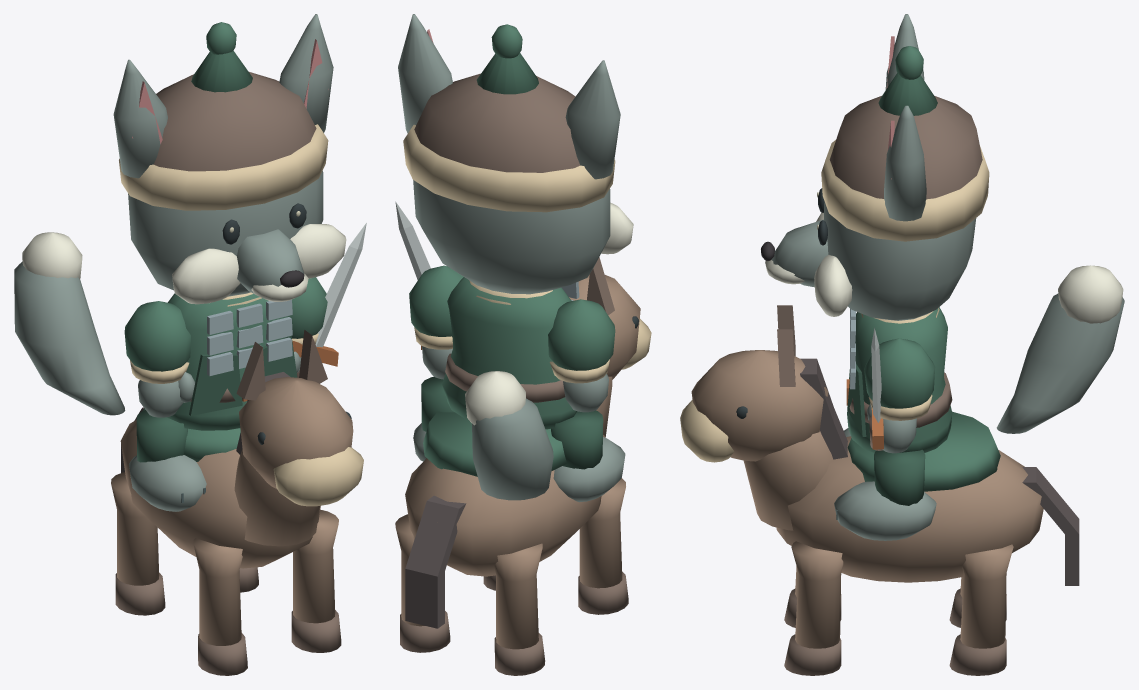
The model's file is rider.glb.
3 renders of one model, left to right at view 1: azimuth 30°, elevation 25°; view 2: azimuth 150°, elevation 25°; view 3: azimuth 270°, elevation 25°, orthographic.
Parts seen in each view (by area): view 1: Regional helmet, Plush sweeping tail, Animal cheek head, Pony head, Fur hat brim, Plump pony body, Pony neck, Pony stubby leg, Short folded tunic, Tall animal ear, Pony stubby leg.001, Puff sleeve (+26 smaller); view 2: Animal cheek head, Regional helmet, Plump pony body, Short folded tunic, Fur hat brim, Plush sweeping tail, Pony tail, Tall animal ear, Pony stubby leg.002, Puff sleeve, Pony stubby leg, Tall animal ear.001 (+23 smaller); view 3: Plump pony body, Animal cheek head, Pony head, Regional helmet, Plush sweeping tail, Fur hat brim, Short folded tunic, Pony neck, Saddle blanket, Pony stubby leg.001, Pony stubby leg.003, Soft animal paw.001 (+20 smaller).
Boxes of the visible parts, x1,y1,x2,y2 form: Regional helmet: (153, 72, 316, 171); Plush sweeping tail: (14, 261, 125, 415); Animal cheek head: (128, 171, 323, 296); Pony head: (239, 377, 353, 488); Fur hat brim: (119, 124, 328, 210); Plump pony body: (120, 420, 320, 568); Pony neck: (234, 449, 319, 546); Pony stubby leg: (193, 538, 242, 645); Short folded tunic: (167, 293, 287, 430); Tall animal ear: (113, 59, 167, 178); Pony stubby leg.001: (293, 509, 338, 623); Puff sleeve: (124, 301, 190, 371); Animal cheek head: (413, 180, 610, 294); Regional helmet: (414, 73, 580, 172); Plump pony body: (405, 435, 605, 576); Short folded tunic: (442, 277, 576, 429); Fur hat brim: (403, 124, 615, 212); Plush sweeping tail: (472, 398, 553, 500); Pony tail: (405, 495, 466, 628); Tall animal ear: (565, 60, 620, 179); Pony stubby leg.002: (494, 543, 542, 649); Puff sleeve: (548, 299, 615, 370); Pony stubby leg: (579, 478, 625, 588); Tall animal ear.001: (398, 14, 452, 133); Plump pony body: (776, 436, 1043, 582); Animal cheek head: (824, 202, 976, 320); Pony head: (691, 350, 828, 461); Regional helmet: (829, 96, 982, 199); Plush sweeping tail: (996, 293, 1124, 433); Fur hat brim: (821, 139, 989, 241); Short folded tunic: (847, 307, 952, 452); Pony neck: (743, 431, 833, 530); Saddle blanket: (847, 411, 1000, 491); Pony stubby leg.001: (791, 541, 843, 648); Pony stubby leg.003: (960, 544, 1013, 648); Soft animal paw.001: (834, 481, 936, 540).
Bounding box in the file's own units: 1.01 × 2.31 × 1.56.
